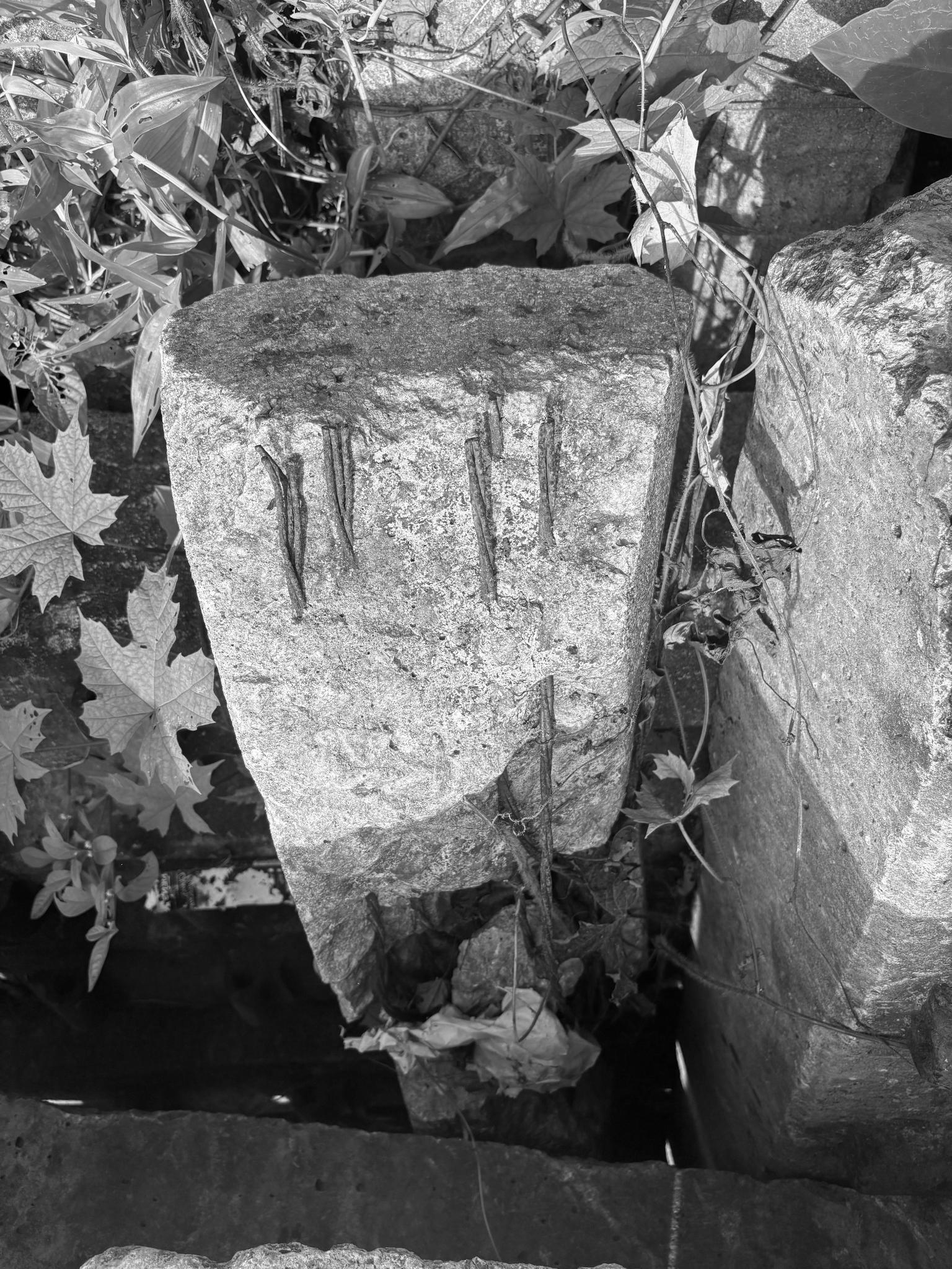cracks under rail seat: (137, 244, 702, 771), (273, 626, 779, 1154)
